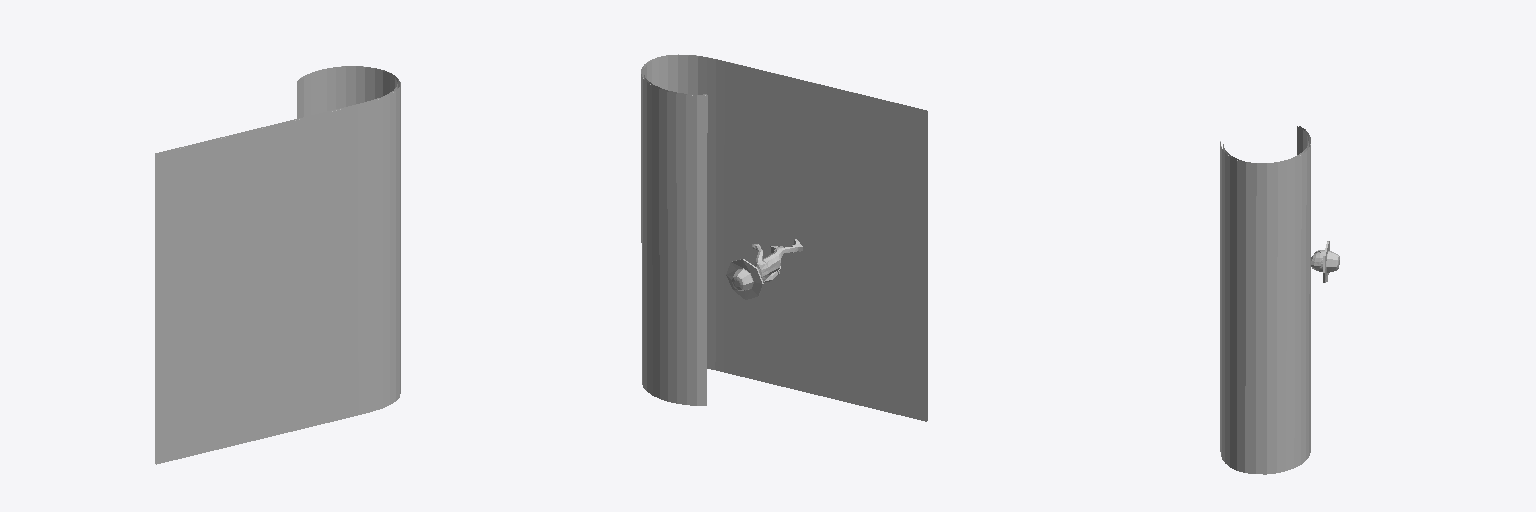
Rendered from start_file2_000057.obj.
3 views of the same model, side by side, from view 1: azimuth 30°, elevation 25°; view 2: azimuth 150°, elevation 25°; view 3: azimuth 270°, elevation 25° (orthographic).
Visible parts, largest first — view 1: Cube_Cube.001; view 2: Cube_Cube.001, Character_Cube; view 3: Cube_Cube.001, Character_Cube.
Part boxes in pixels (left/top/right/bottom): Cube_Cube.001: left=155, top=66, right=400, bottom=464; Cube_Cube.001: left=641, top=54, right=927, bottom=421; Character_Cube: left=726, top=239, right=802, bottom=299; Cube_Cube.001: left=1220, top=126, right=1310, bottom=474; Character_Cube: left=1311, top=241, right=1339, bottom=282.
Size of the model in its own units: 1.34 by 1.52 by 0.5337.